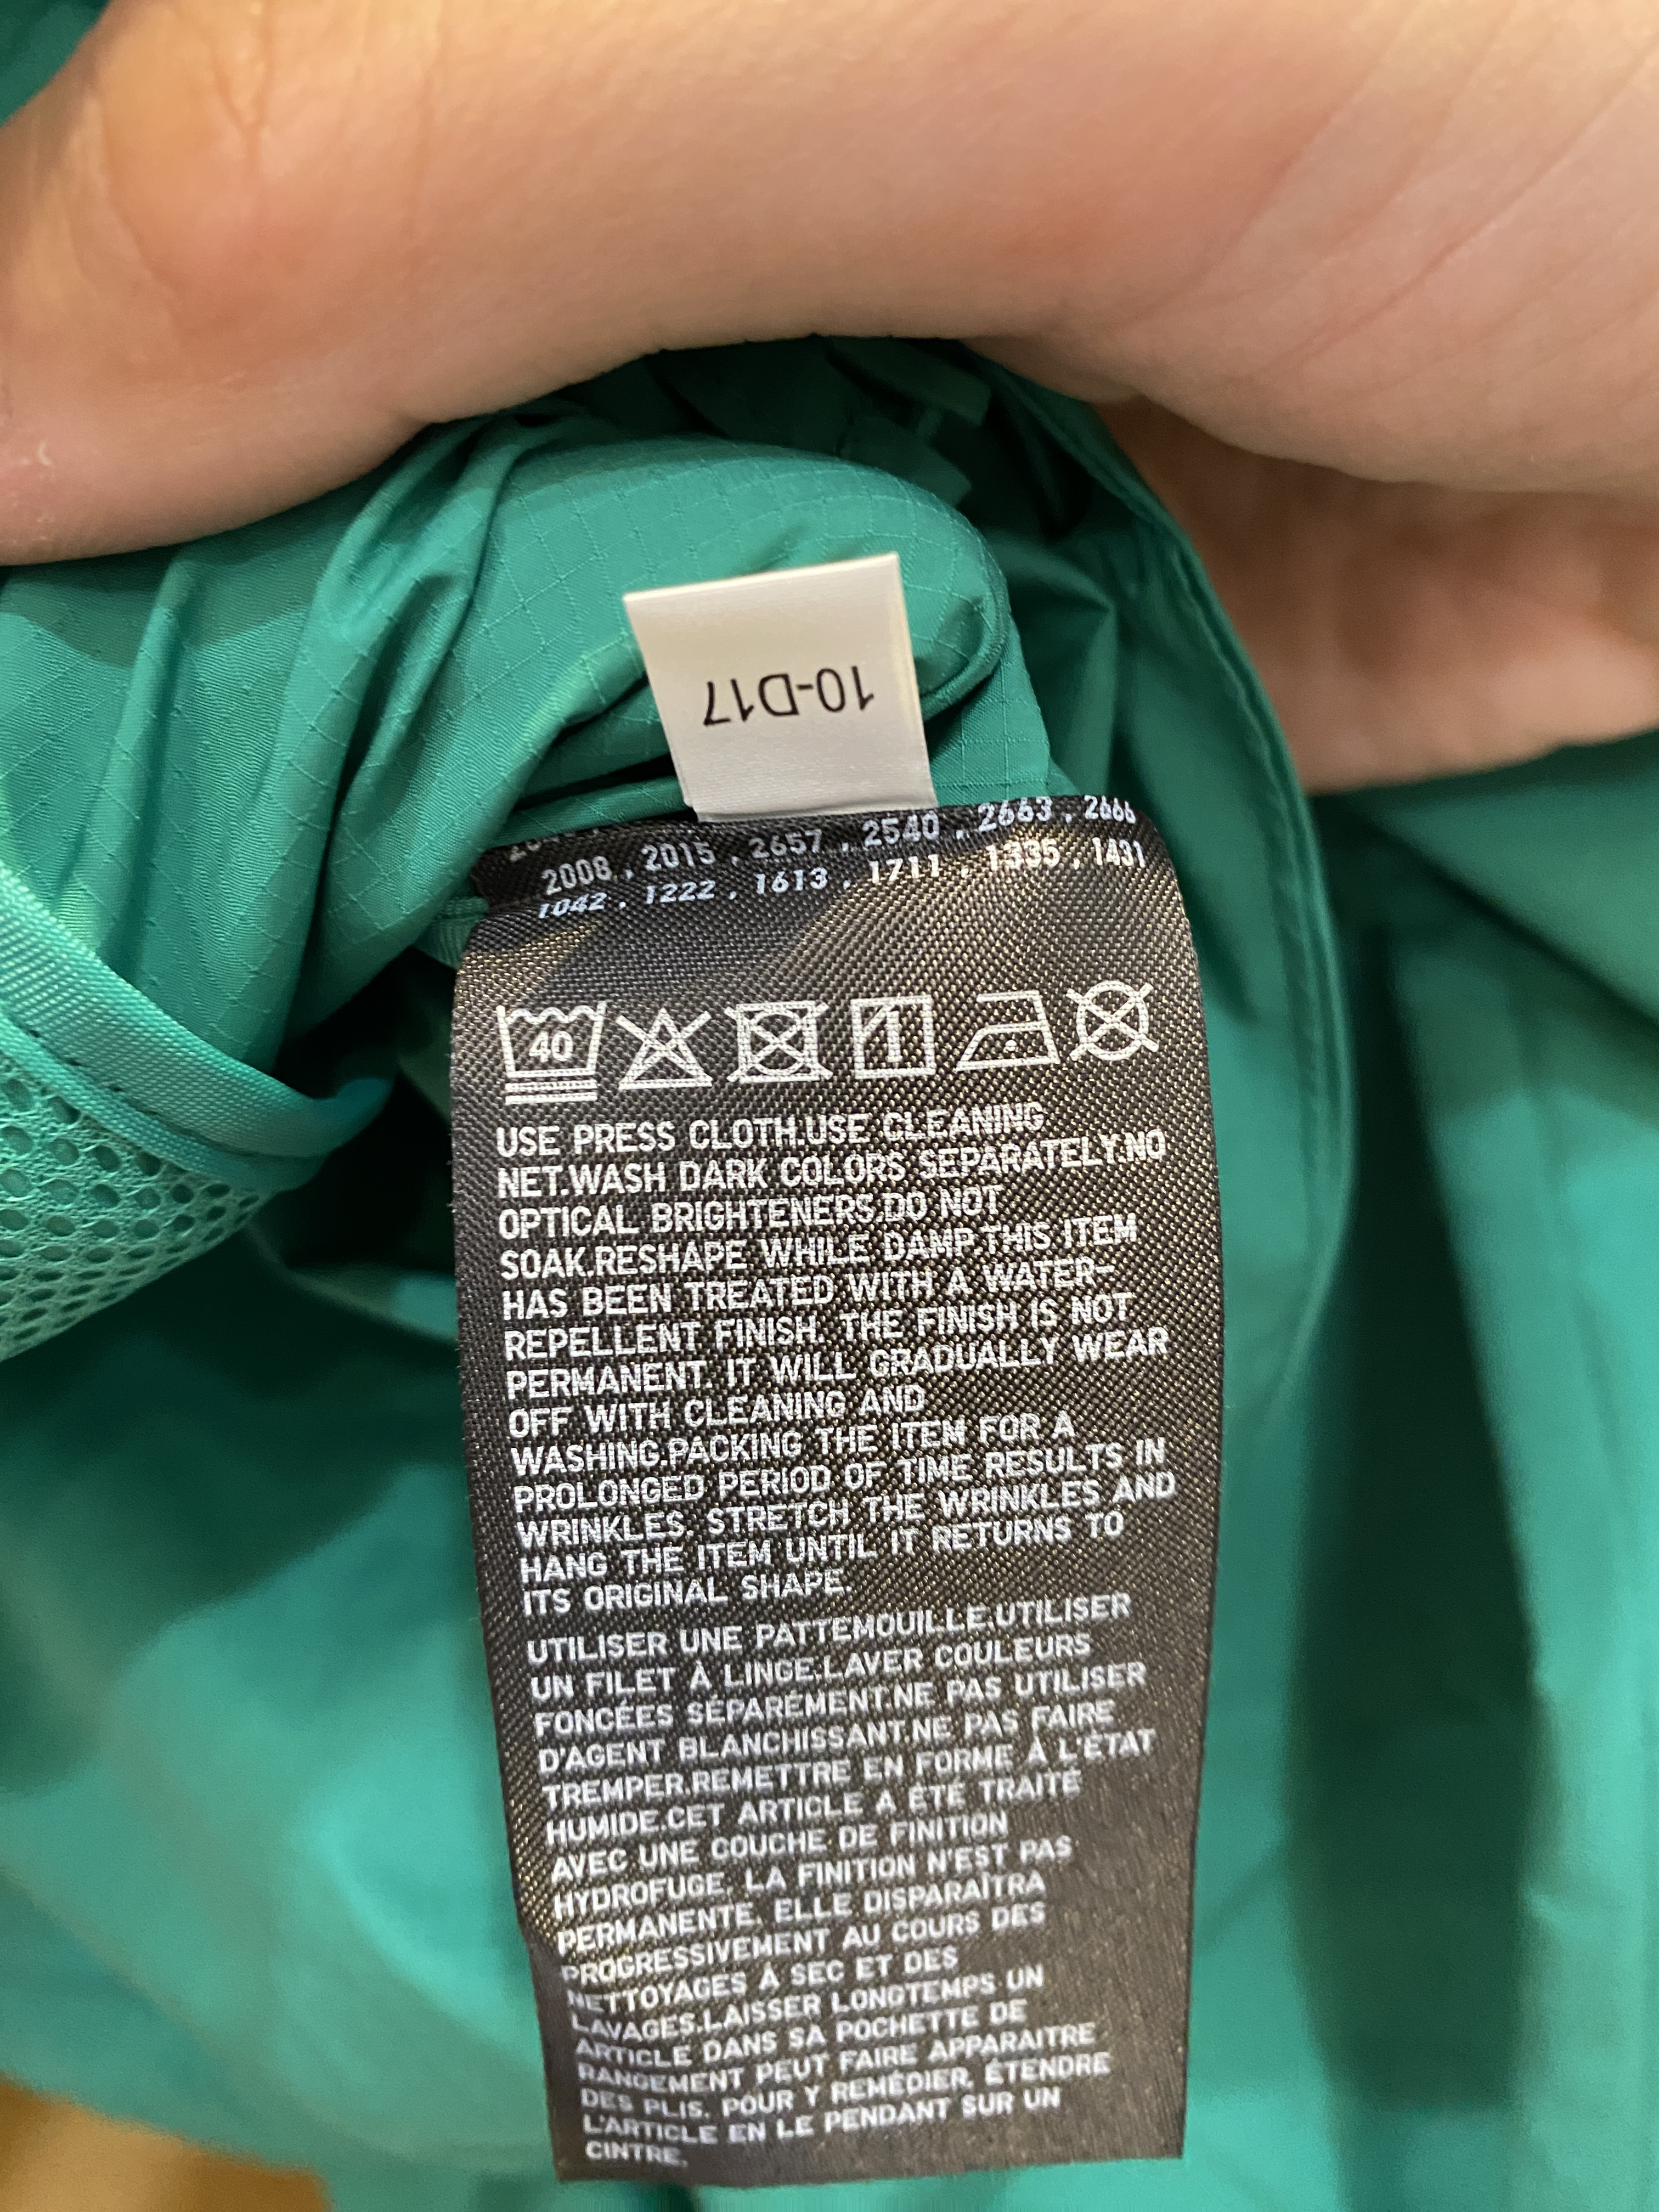icon: (493, 1000, 606, 1108), (720, 995, 840, 1089), (612, 1000, 718, 1099), (955, 986, 1063, 1073), (1068, 974, 1161, 1071), (843, 995, 939, 1078)
